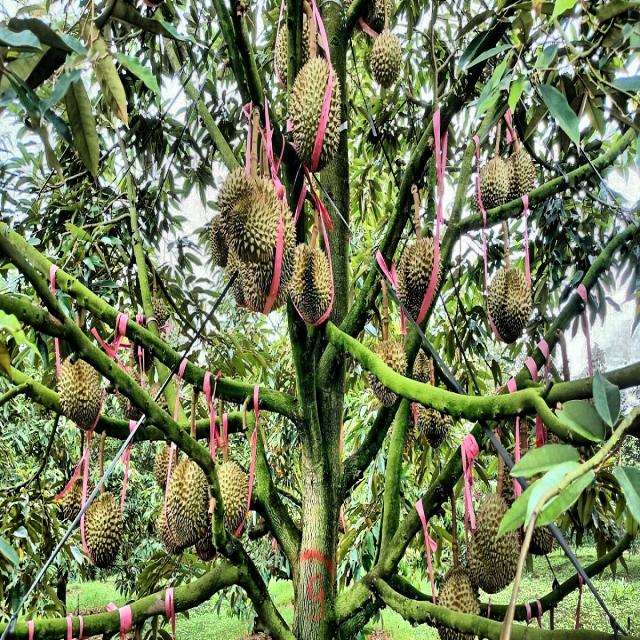arvore: (274, 0, 368, 640)
